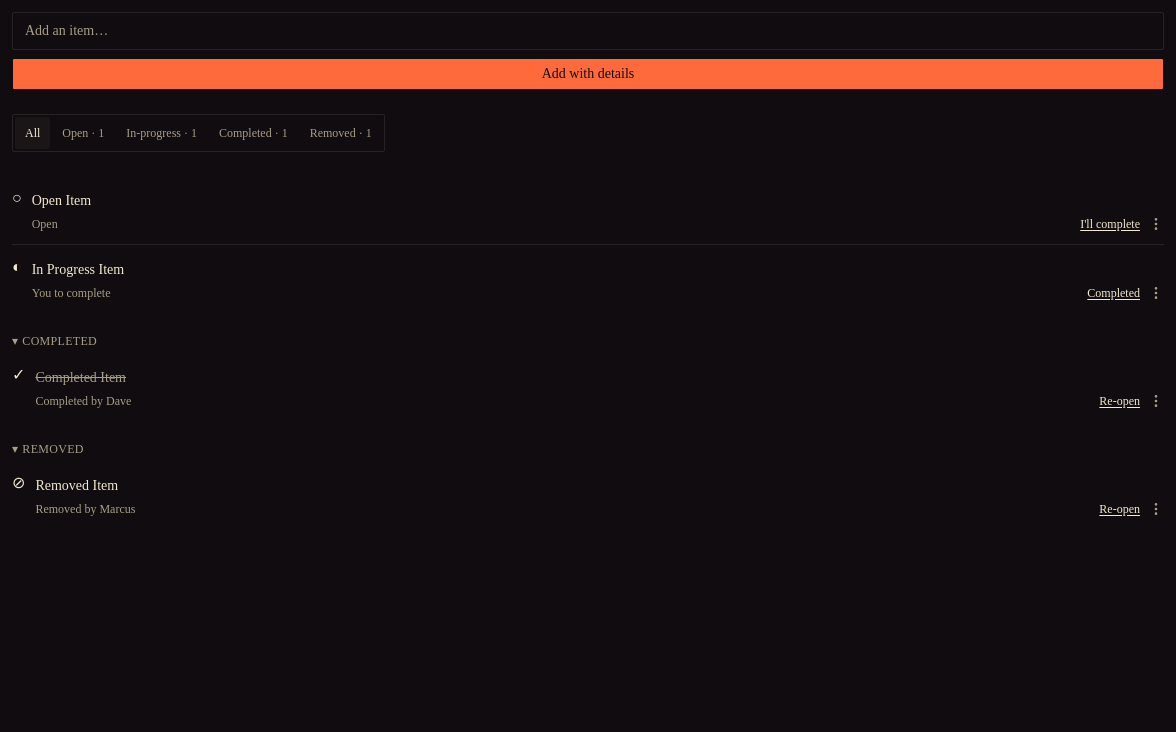
Test case: <ShoppingList /> › clicking the In-progress tab filters to only in-progress items
Click the button "In-progress · 1". click: (162, 133)
box: [116, 117, 207, 149]
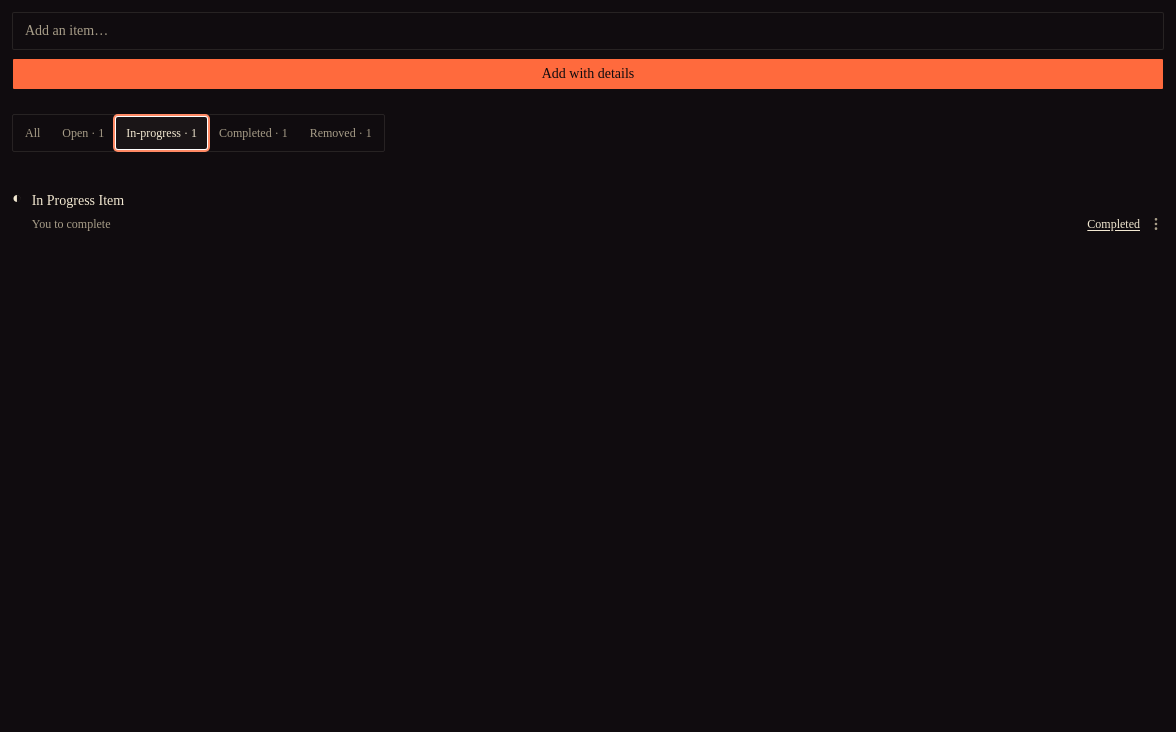
Result: the button "Open Item" is gone
Result: the button "Completed Item" is gone
Result: the button "Removed Item" is gone
